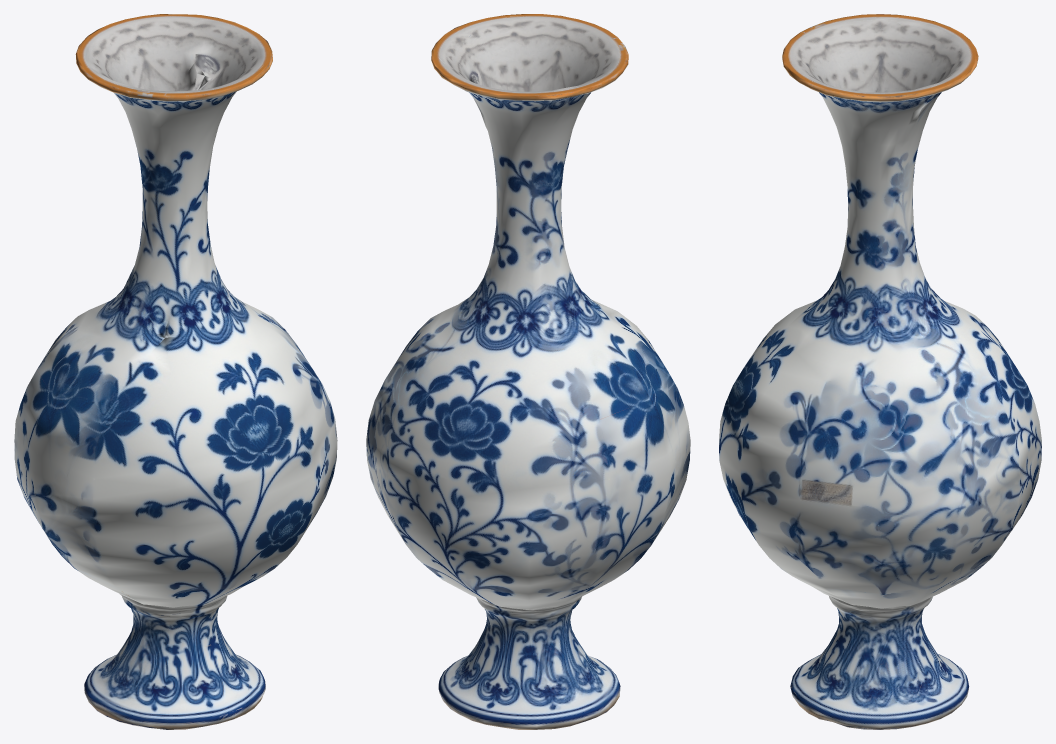
The model's file is PorcelainVase.fbx.
3 renders of one model, left to right at view 1: azimuth 30°, elevation 25°; view 2: azimuth 150°, elevation 25°; view 3: azimuth 270°, elevation 25°, orthographic.
Visible parts, largest first — view 1: Mesh_0; view 2: Mesh_0; view 3: Mesh_0.
Boxes of the visible parts, box(x1,y1,x2,y2) form: Mesh_0: box(14, 14, 337, 729); Mesh_0: box(366, 14, 690, 729); Mesh_0: box(719, 14, 1041, 729).
Size of the model in its own units: 46.01 by 100 by 45.95.
1 material, 1 textured.
